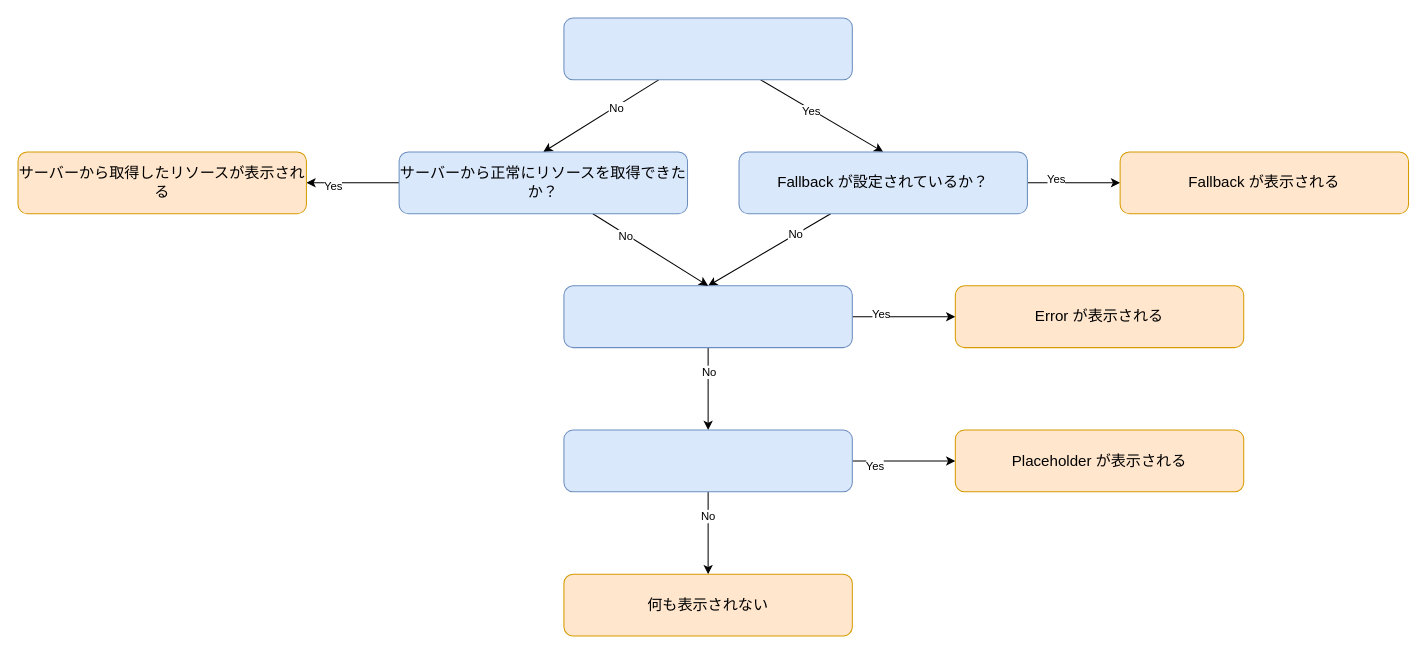
This 1427x654 diagram has some shape labels left out. Each missing label, with the centre of its shape:
"Error が設定されているか？" belongs at point (707, 316).
"Placeholder が設定されているか？" belongs at point (707, 460).
"URL が null か？" belongs at point (707, 48).
